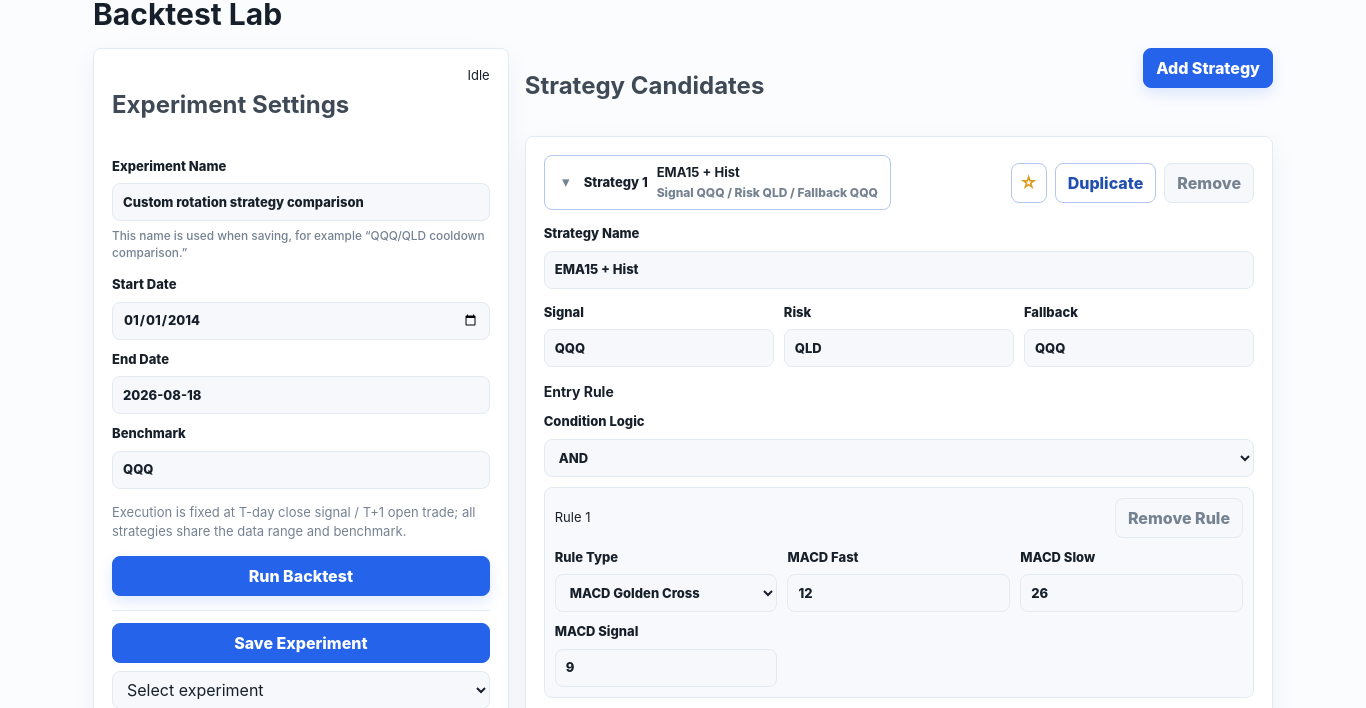
Test: BacktestLabPage › keeps valid candidates running and renders an invalid candidate error row
Click the button "Add Strategy".
click(1208, 68)  # box [1143, 48, 1273, 88]
(page scrolled)
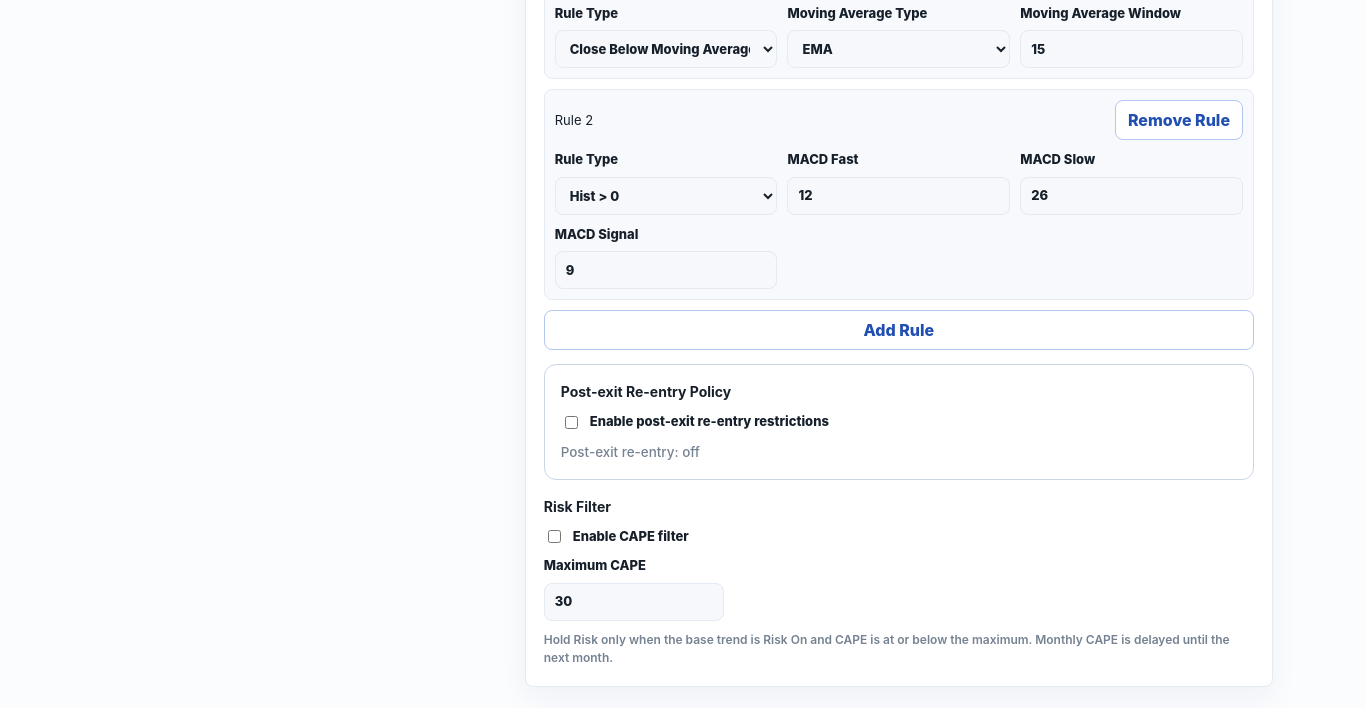
Click the checkbox labelled "Enable post-exit re-entry restrictions".
click(571, 422)  # box [565, 416, 578, 429]
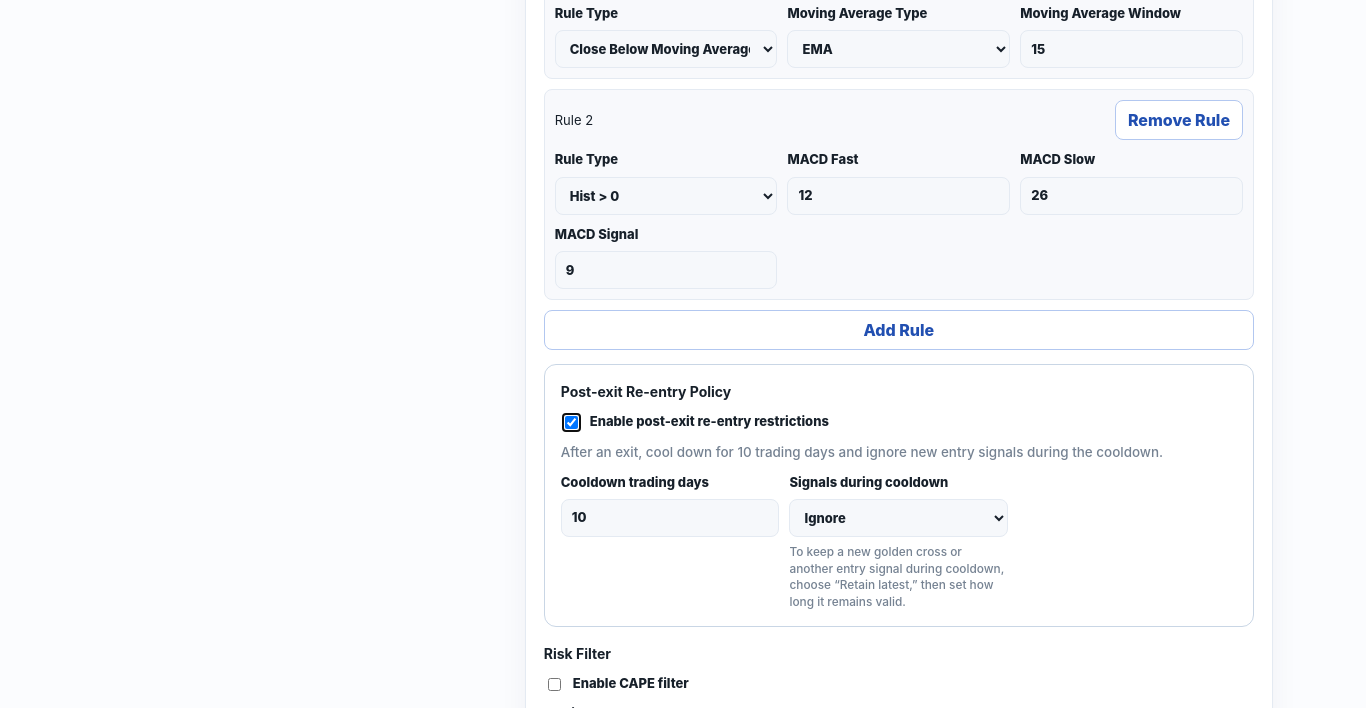
Replace the text in the field labelled "Cooldown trading days" with "0" at (670, 518), box [561, 499, 780, 537]
(page scrolled)
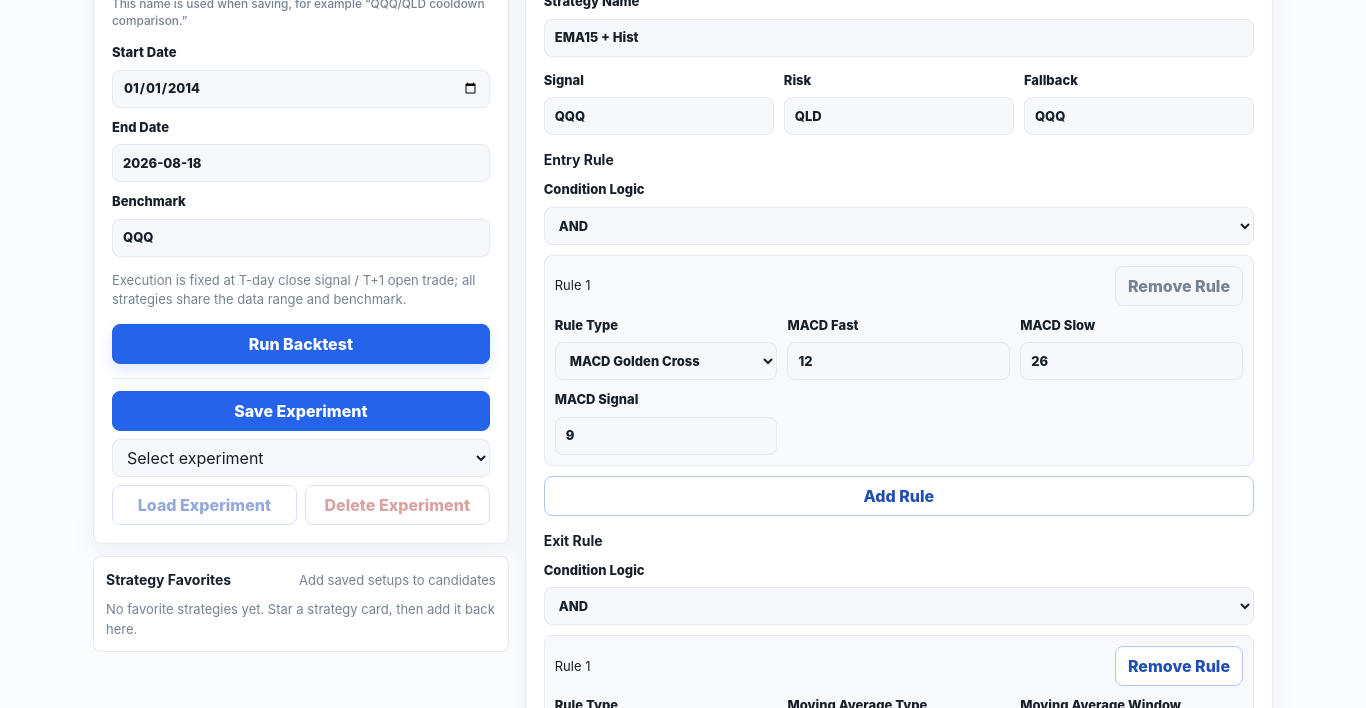
Click the button "Run Backtest".
click(301, 344)  # box [112, 324, 490, 364]
(page scrolled)
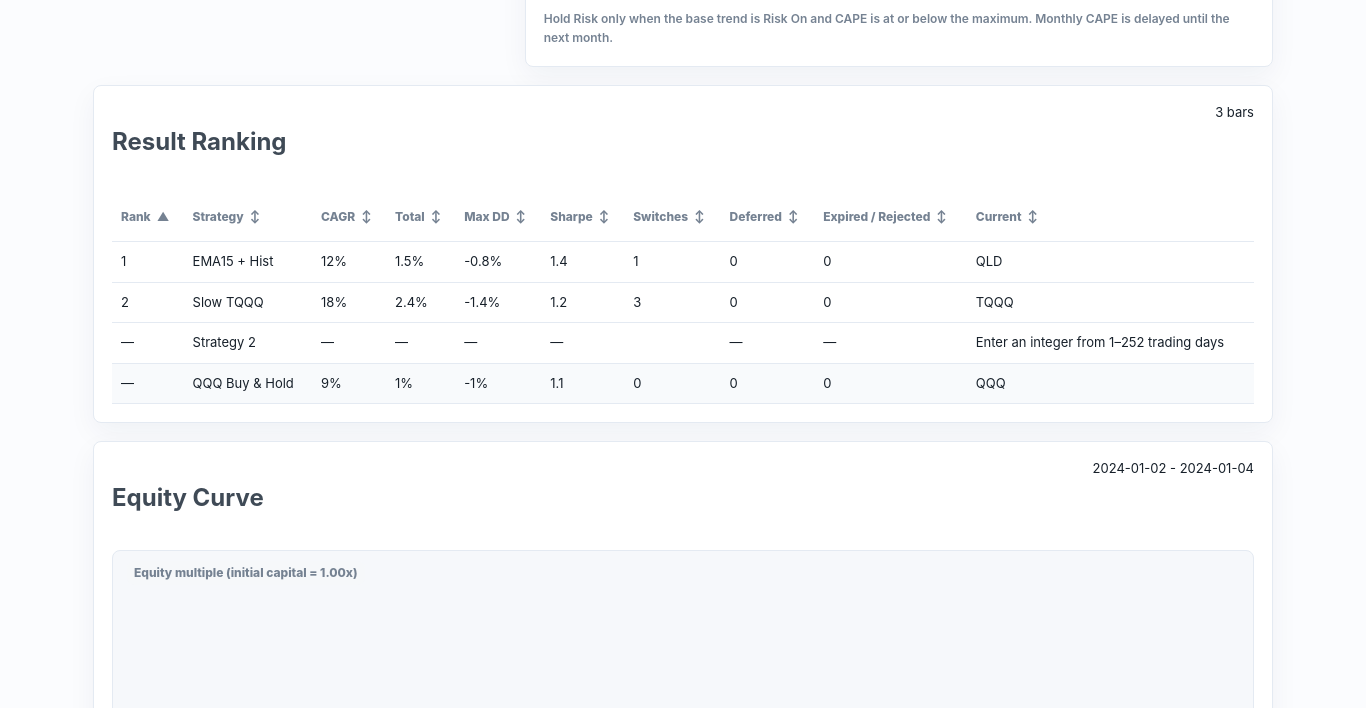
expect the cell "Strategy 2" is shown: met, box [184, 323, 312, 364]
expect the cell "Enter an integer from 1–252 trading days" is shown: met, box [967, 323, 1254, 364]
